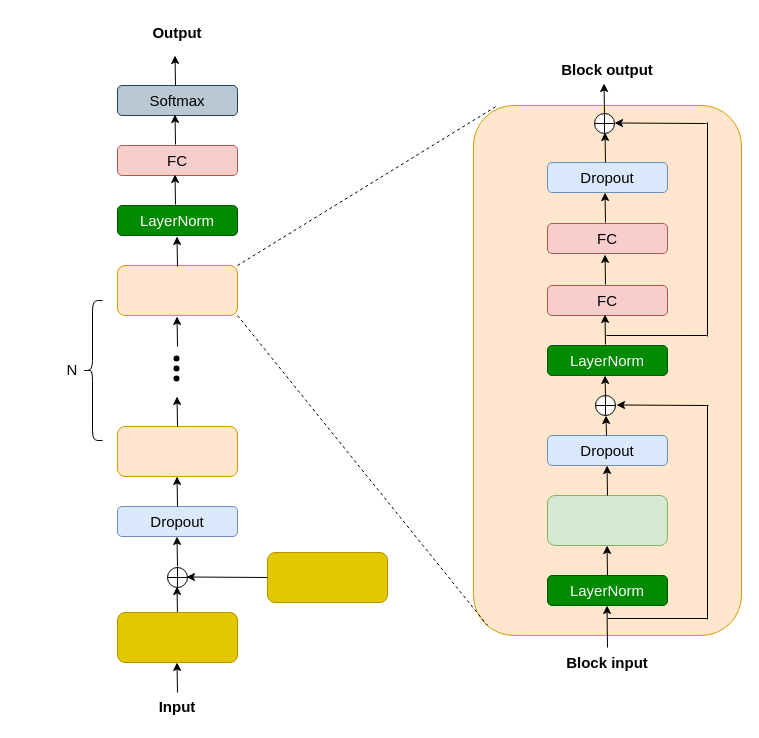
Some shapes in this 759 by 738 pixel diagram are drawn without their labels. The shapes that lost their labels are listed below. From the top down, each one's centre as x and y in pixels, then its label:
the point at 177,290: Transformer block #N
the point at 177,451: Transformer block #1
the point at 607,520: Multi-Head Attention
the point at 327,577: Positional embedding
the point at 177,637: Token embedding
